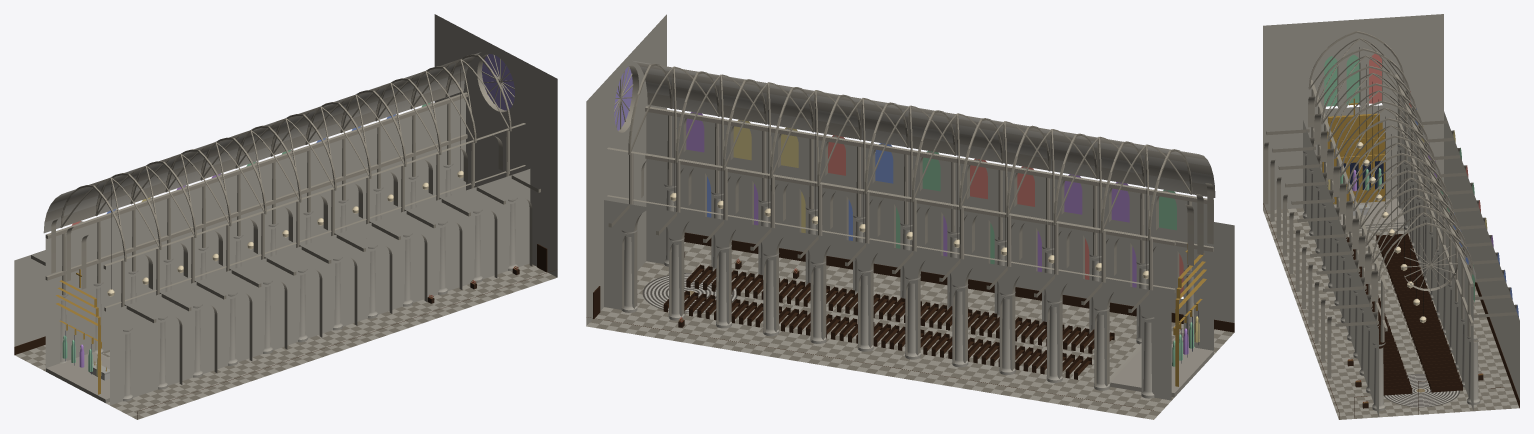
The model's file is grace_int.glb.
3 renders of one model, left to right at view 1: azimuth 30°, elevation 25°; view 2: azimuth 150°, elevation 25°; view 3: azimuth 270°, elevation 25°, orthographic. The views are drawn at different scales.
Visible parts, largest first — view 1: I_x_plaster, I_x_marble_white, I_stained, I_x_gold, I_x_veneer, I_lampI, I_paint; view 2: I_x_plaster, I_x_marble_white, I_x_veneer, I_stained, I_x_gold, I_metal, I_paint; view 3: I_x_plaster, I_x_marble_white, I_x_veneer, I_x_gold, I_stained, I_metal, I_lampI, I_paint.
Part boxes in pixels (<box>): I_x_plaster: <box>14,14,557,405</box>; I_x_marble_white: <box>15,164,556,419</box>; I_stained: <box>71,54,514,225</box>; I_x_gold: <box>56,269,106,394</box>; I_x_veneer: <box>14,244,554,419</box>; I_lampI: <box>94,170,463,367</box>; I_paint: <box>62,335,101,376</box>; I_x_plaster: <box>586,14,1234,400</box>; I_x_marble_white: <box>586,184,1233,419</box>; I_x_veneer: <box>586,232,1234,410</box>; I_stained: <box>614,66,1183,296</box>; I_x_gold: <box>1173,243,1206,386</box>; I_metal: <box>674,89,1146,270</box>; I_paint: <box>1172,316,1199,366</box>; I_x_plaster: <box>1263,14,1519,416</box>; I_x_marble_white: <box>1263,144,1519,419</box>; I_x_veneer: <box>1263,203,1519,419</box>; I_x_gold: <box>1322,98,1385,206</box>; I_stained: <box>1324,54,1518,316</box>; I_metal: <box>1359,47,1423,316</box>; I_lampI: <box>1356,142,1426,322</box>; I_paint: <box>1327,168,1381,191</box>.
Bounding box in the file's own units: 74.32 × 29 × 36.48.
